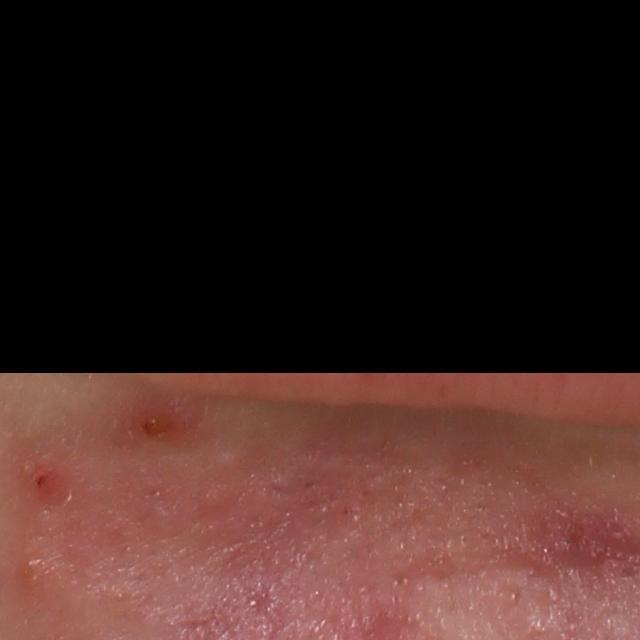papule: (125, 405, 194, 441), (18, 463, 65, 503), (18, 552, 61, 592)
